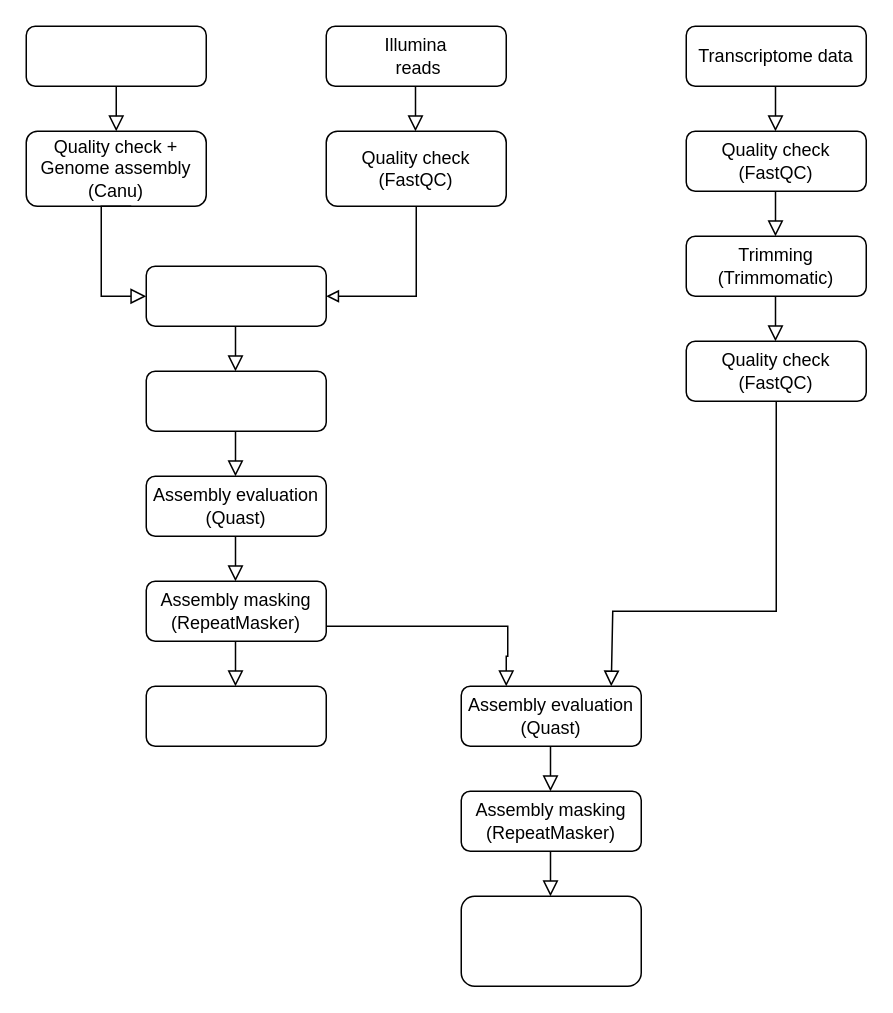
Image size: 893x1013. Some labels were removed from this diagram. Here are the shapes that lost their labels. From the top down, the centre of each, then its label:
At (115,55): "PacBio reads".
At (235,295): "Mapping (BWA)".
At (235,400): "Correct assembly (Pilon)".
At (235,715): "Functional annotation (eggNOGmapper)".
At (550,940): "Differential expression analysis (HTseq + DESeq2)".
